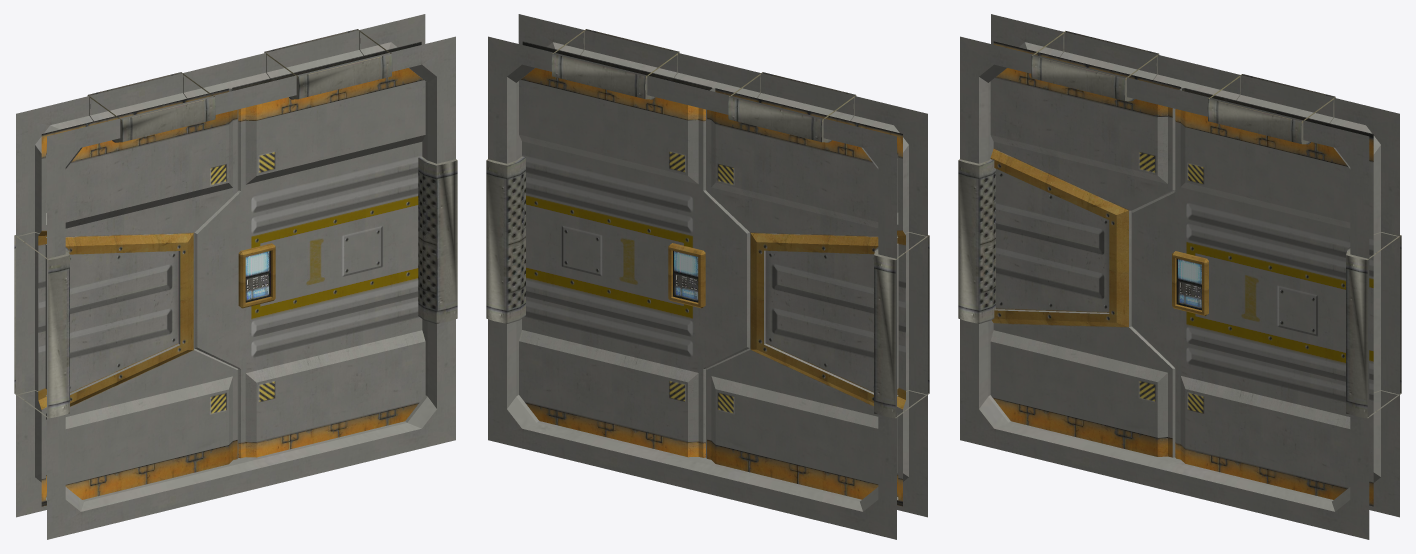
The model's file is door2.obj.
3 renders of one model, left to right at view 1: azimuth 30°, elevation 25°; view 2: azimuth 150°, elevation 25°; view 3: azimuth 330°, elevation 25°, orthographic.
Visible parts, largest first — view 1: door_01; view 2: door_01; view 3: door_01.
Boxes of the visible parts, x1,y1,x2,y2 form: door_01: (14,14,457,539); door_01: (486,14,929,539); door_01: (958,14,1401,539).
Bounding box in the file's own units: 20.09 × 18.92 × 3.
